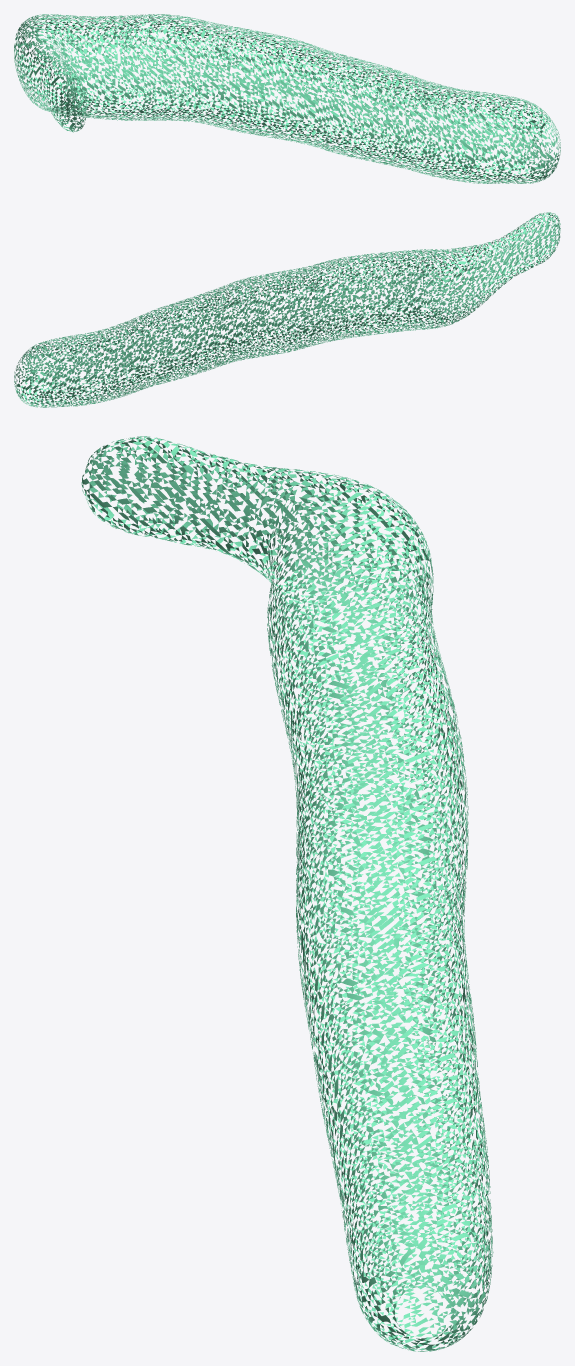
The model's file is healthy.glb.
3 renders of one model, top to bottom at view 1: azimuth 30°, elevation 25°; view 2: azimuth 150°, elevation 25°; view 3: azimuth 270°, elevation 25°, orthographic. The views are drawn at different scales.
Size of the model in its own units: 123 by 62.25 by 47.48.
